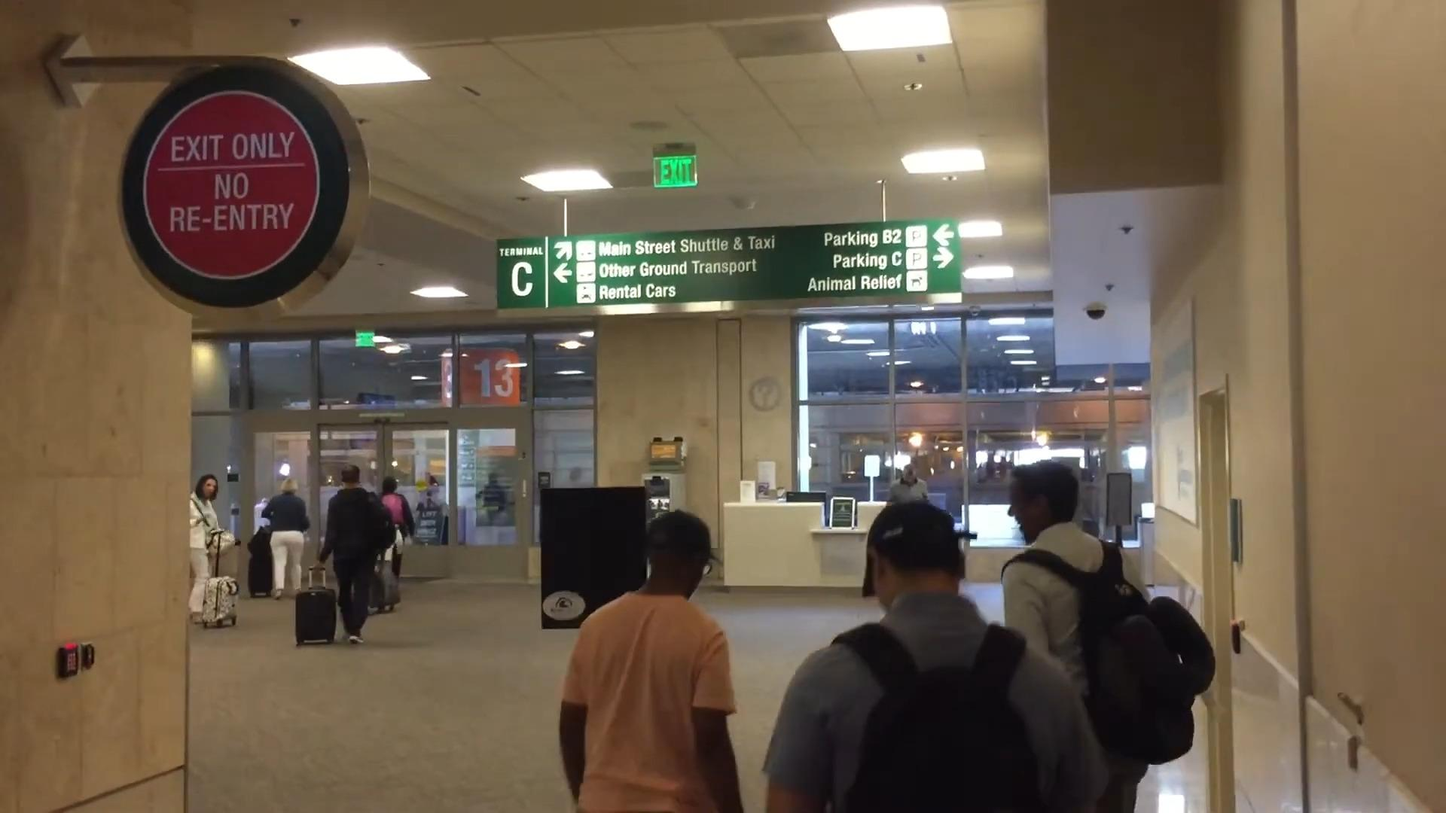luggage: (201, 576, 238, 627), (368, 557, 400, 613), (247, 554, 274, 597), (247, 525, 272, 555)
